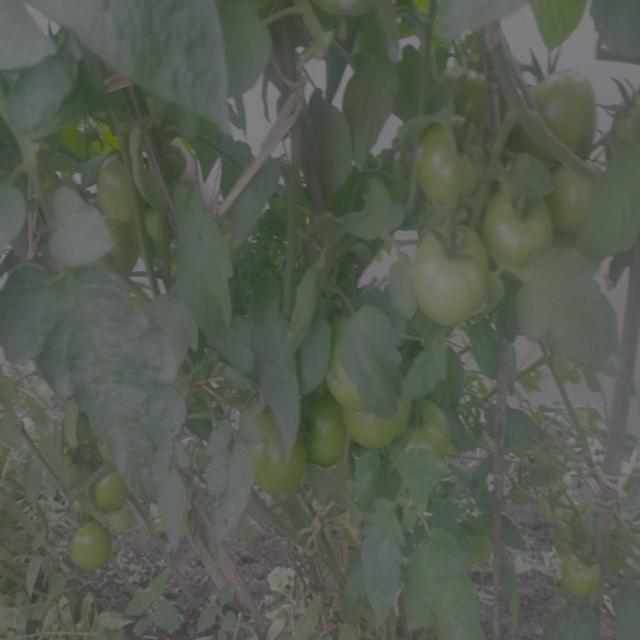tomato: (410, 223, 488, 326), (523, 66, 599, 157), (327, 317, 408, 400), (413, 133, 484, 205), (543, 167, 613, 230), (242, 412, 297, 490), (491, 193, 539, 272), (447, 71, 501, 128), (101, 157, 140, 227), (346, 408, 409, 451), (300, 402, 344, 461), (68, 522, 113, 571), (414, 397, 448, 461), (88, 465, 130, 510), (562, 553, 601, 597), (613, 85, 640, 141), (106, 227, 141, 270), (145, 208, 182, 246), (540, 496, 570, 526), (166, 143, 183, 182)
